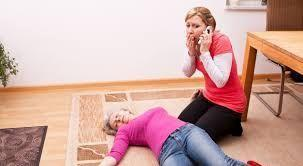Fall-Detected: (78, 102, 288, 161)
